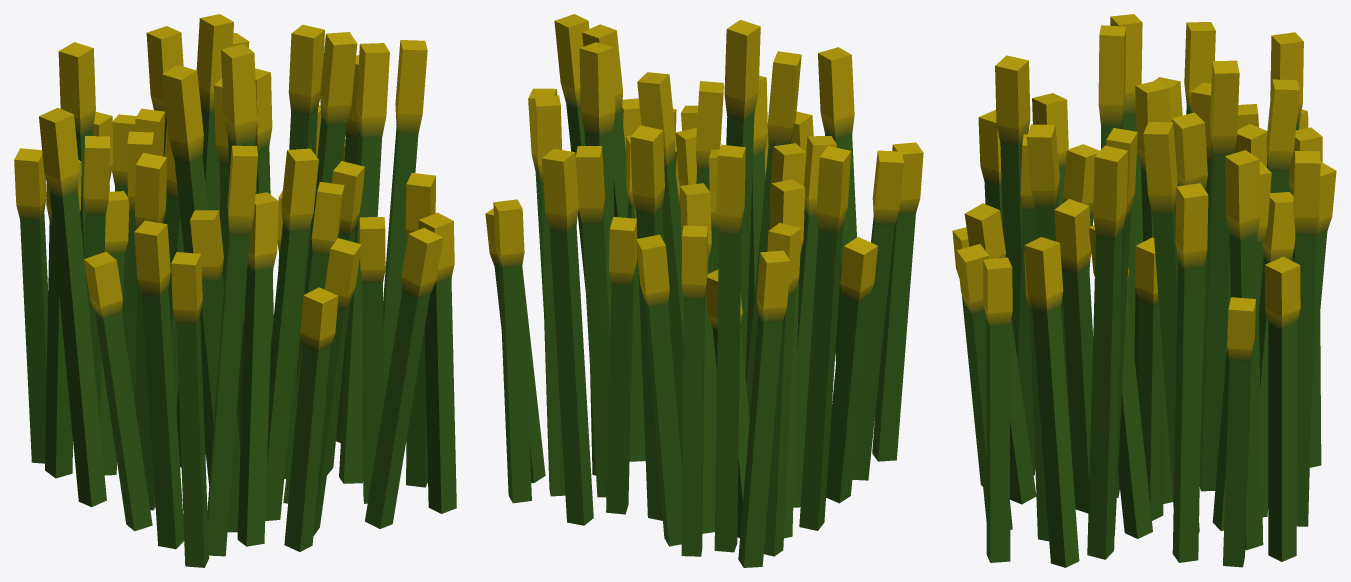
The model's file is Colza_fbx_test.fbx.
3 renders of one model, left to right at view 1: azimuth 30°, elevation 25°; view 2: azimuth 150°, elevation 25°; view 3: azimuth 270°, elevation 25°, orthographic. The views are drawn at different scales.
Visible parts, largest first — view 1: Colza_BASE; view 2: Colza_BASE; view 3: Colza_BASE.
Boxes of the visible parts, <box> form: Colza_BASE: <box>14,14,456,567</box>; Colza_BASE: <box>485,14,923,567</box>; Colza_BASE: <box>952,14,1336,567</box>.
Bounding box in the file's own units: 126 × 160 × 122.
